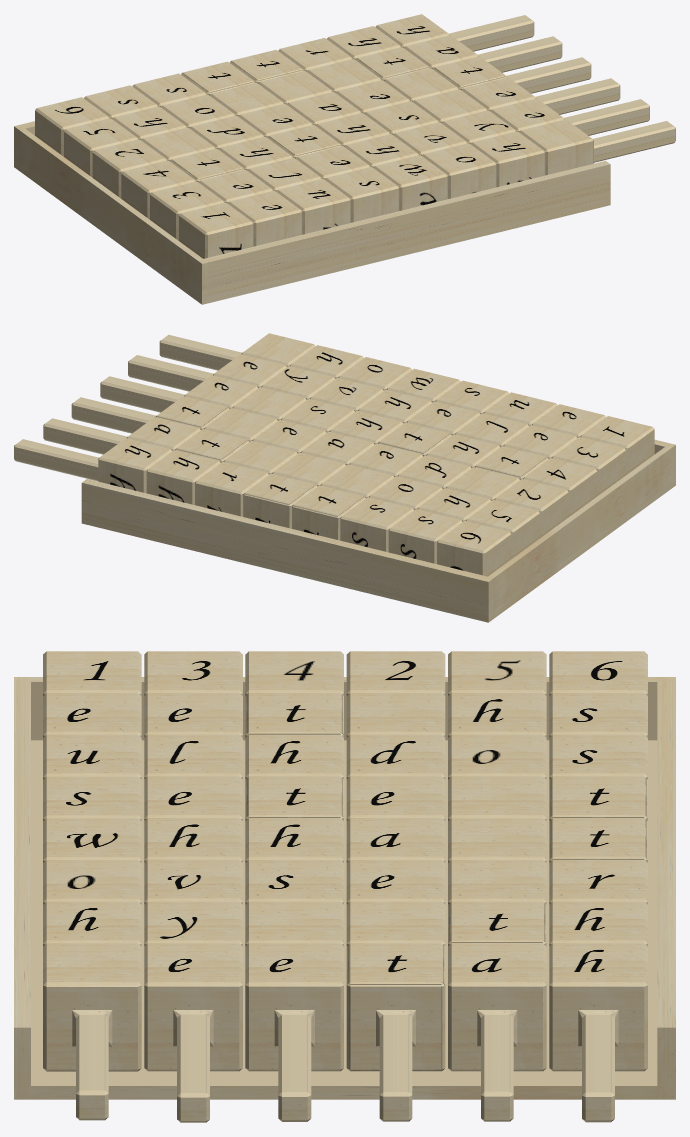
Rendered from Transposition Cipher.fbx.
The picture shows the model from 3 angles, top to bottom: view 1: azimuth 30°, elevation 25°; view 2: azimuth 150°, elevation 25°; view 3: azimuth 270°, elevation 25°; orthographic projection. The views are drawn at different scales.
Parts seen in each view (by area): view 1: Board, 1, 2, 3, 6, 4, 5; view 2: Board, 6, 4, 3, 2, 5, 1; view 3: 2, 4, 3, 6, 5, 1, Board.
Boxes of the visible parts, x1=… form: Board: x1=14, y1=121, x2=610, y2=304; 1: x1=179, y1=119, x2=675, y2=258; 2: x1=92, y1=56, x2=591, y2=198; 3: x1=150, y1=98, x2=649, y2=240; 6: x1=35, y1=14, x2=534, y2=156; 4: x1=121, y1=77, x2=620, y2=219; 5: x1=64, y1=35, x2=562, y2=177; Board: x1=81, y1=439, x2=675, y2=622; 6: x1=14, y1=438, x2=511, y2=576; 4: x1=100, y1=375, x2=597, y2=516; 3: x1=128, y1=354, x2=625, y2=495; 2: x1=71, y1=396, x2=568, y2=537; 5: x1=43, y1=417, x2=539, y2=558; 1: x1=159, y1=333, x2=654, y2=474; 2: x1=346, y1=651, x2=445, y2=1121; 4: x1=245, y1=651, x2=343, y2=1121; 3: x1=144, y1=651, x2=242, y2=1122; 6: x1=549, y1=651, x2=647, y2=1122; 5: x1=448, y1=651, x2=546, y2=1121; 1: x1=43, y1=651, x2=141, y2=1120; Board: x1=14, y1=677, x2=675, y2=1099.
Bounding box in the file's own units: 2783 × 334 × 1831.
